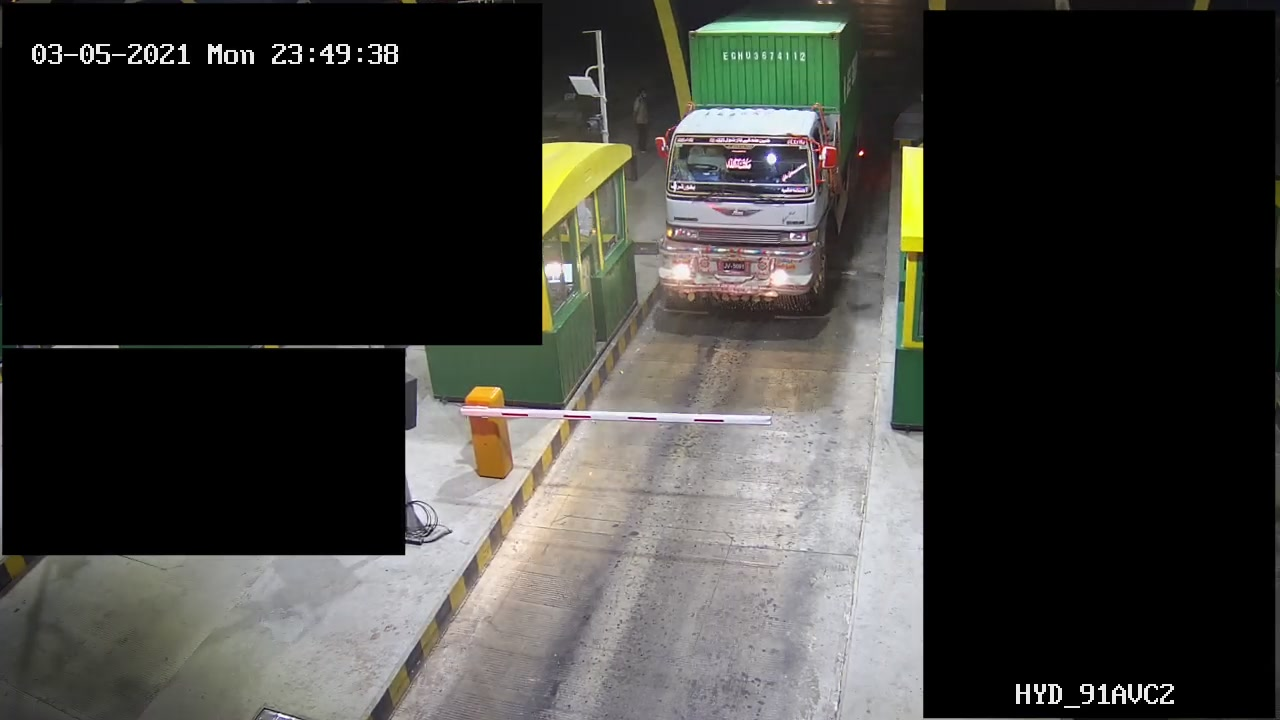F6: (648, 1, 878, 328)
